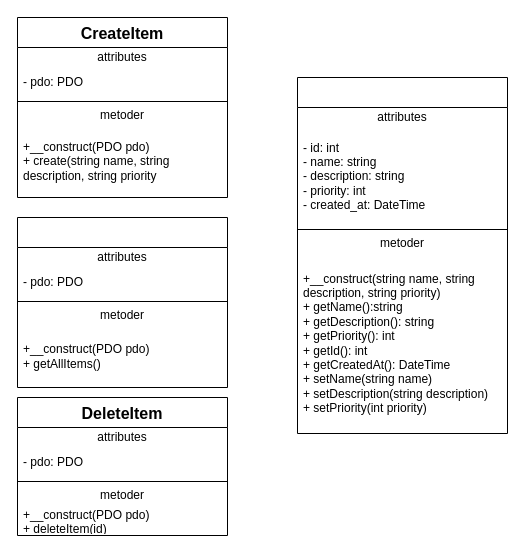
Image size: 525x553. Some labels were removed from this diagram. Each missing label, with the box of its shape:
BucketItem: (296, 76, 508, 434)
ReadItem: (16, 216, 228, 388)
